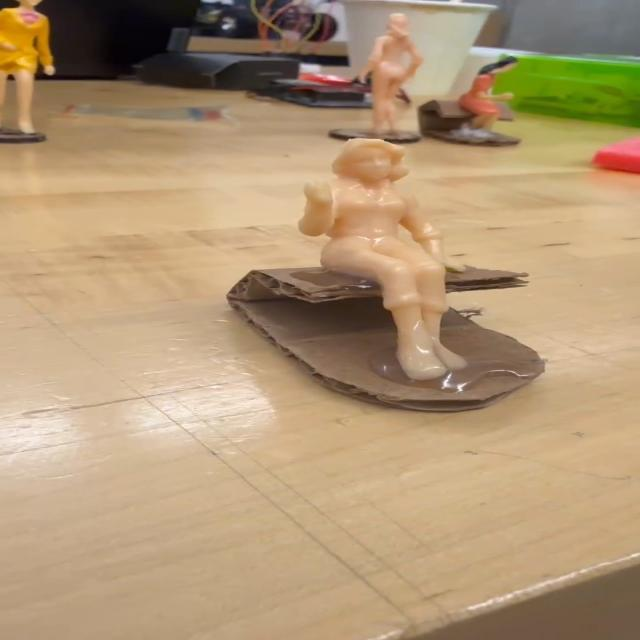Unauthorized: (247, 121, 508, 396)
